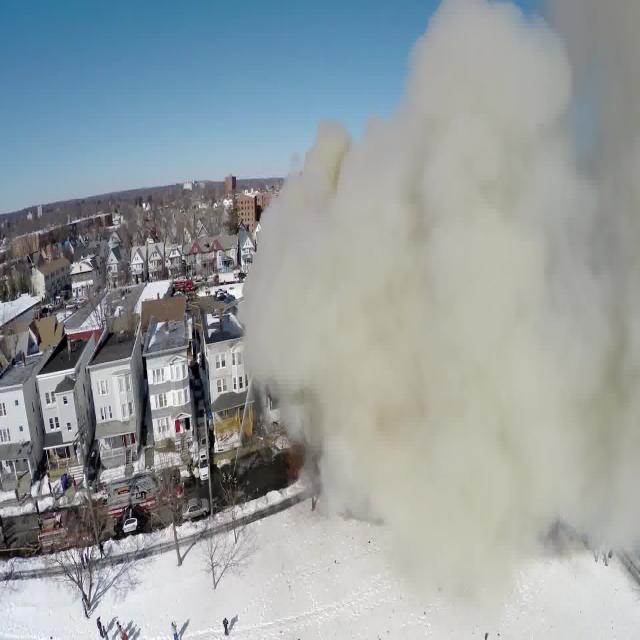Smoke: (239, 2, 640, 640)
